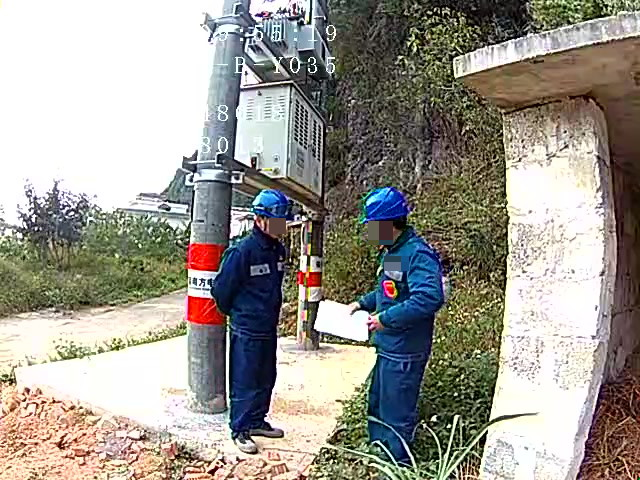downsuit: (366, 356, 429, 451), (227, 338, 280, 430)
halt: (362, 186, 413, 236), (250, 189, 293, 234)
hand: (365, 313, 383, 333)
inear: (376, 220, 397, 243), (251, 214, 270, 232)
person: (356, 185, 450, 474), (208, 189, 300, 446)
sleeve: (382, 280, 400, 301)
upsuit: (362, 232, 448, 357), (211, 234, 291, 332)
